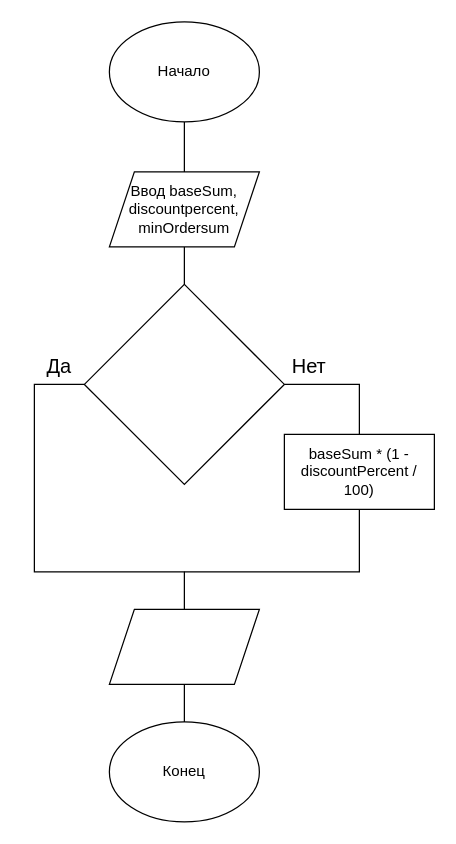
Some shapes in this 456 by 844 pixel diagram are drawn without their labels. The box of each missing label's shape, as (x1, y1, x2, y2) in pixels:
baseSum < minOrderSum или discountPercent <= 0: (83, 283, 284, 484)
Вывод: (108, 608, 259, 684)
